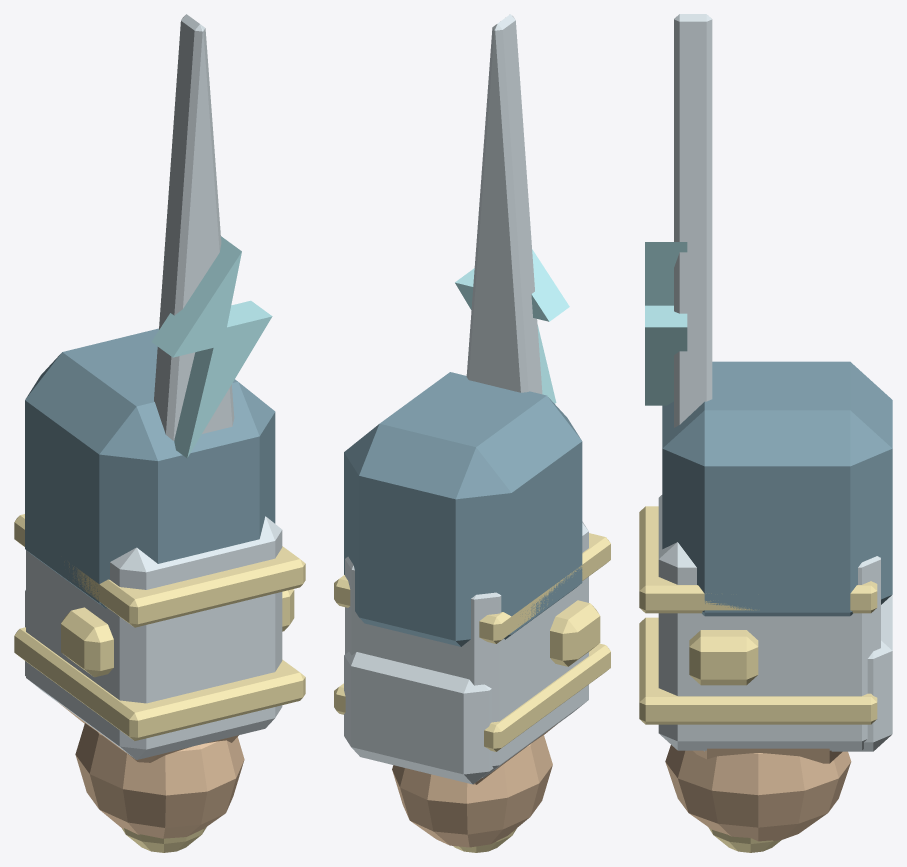
File: Storm_Defender_RightArm.fbx
The picture shows the model from 3 angles, left to right: view 1: azimuth 30°, elevation 25°; view 2: azimuth 150°, elevation 25°; view 3: azimuth 270°, elevation 25°; orthographic projection. The views are drawn at different scales.
Visible parts, largest first — view 1: Storm_Defender_RightArm; view 2: Storm_Defender_RightArm; view 3: Storm_Defender_RightArm.
Part boxes in pixels (left/top/right/bottom): Storm_Defender_RightArm: left=14, top=14, right=305, bottom=852; Storm_Defender_RightArm: left=334, top=14, right=610, bottom=852; Storm_Defender_RightArm: left=639, top=14, right=892, bottom=852.
Size of the model in its own units: 31 by 120 by 33.
